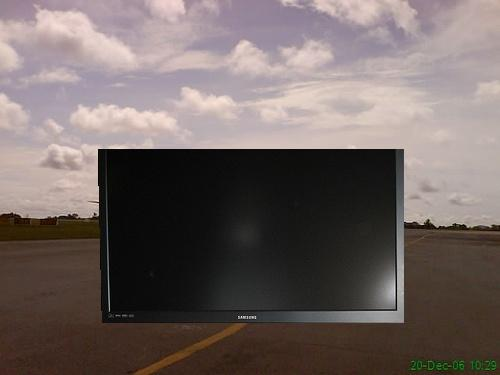tampered: (99, 150, 404, 323)
